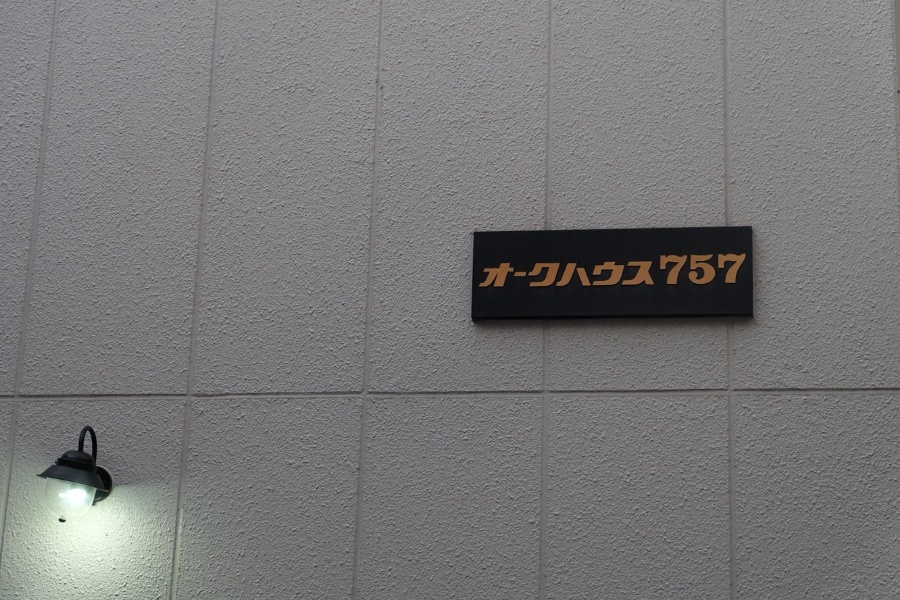text: (497, 255, 512, 290), (513, 255, 528, 290), (529, 255, 544, 290), (545, 255, 560, 290), (561, 255, 576, 290), (577, 255, 592, 290), (593, 255, 608, 290), (609, 255, 624, 290), (625, 255, 640, 290), (641, 255, 656, 290), (657, 255, 672, 290), (673, 255, 688, 290), (689, 255, 704, 290), (705, 255, 720, 290), (721, 255, 736, 290), (737, 255, 749, 290), (485, 255, 496, 290)
